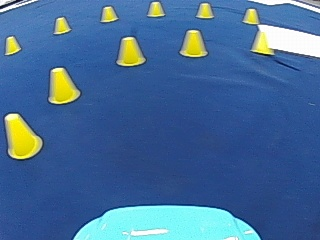cone: (2, 112, 42, 159), (47, 66, 80, 104), (115, 36, 145, 66), (179, 29, 207, 57), (251, 29, 271, 54), (53, 16, 70, 34), (100, 5, 118, 22), (4, 35, 20, 54), (195, 2, 213, 18), (242, 8, 259, 24), (147, 1, 164, 17)
